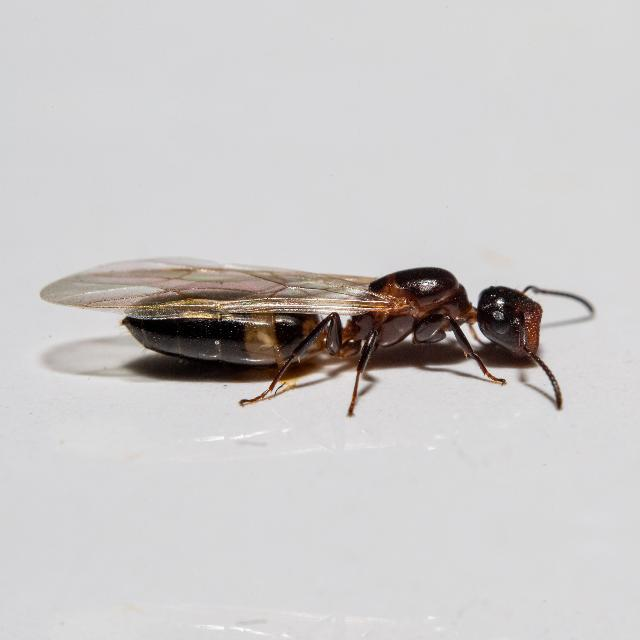Colobopsis: (62, 233, 604, 405)
